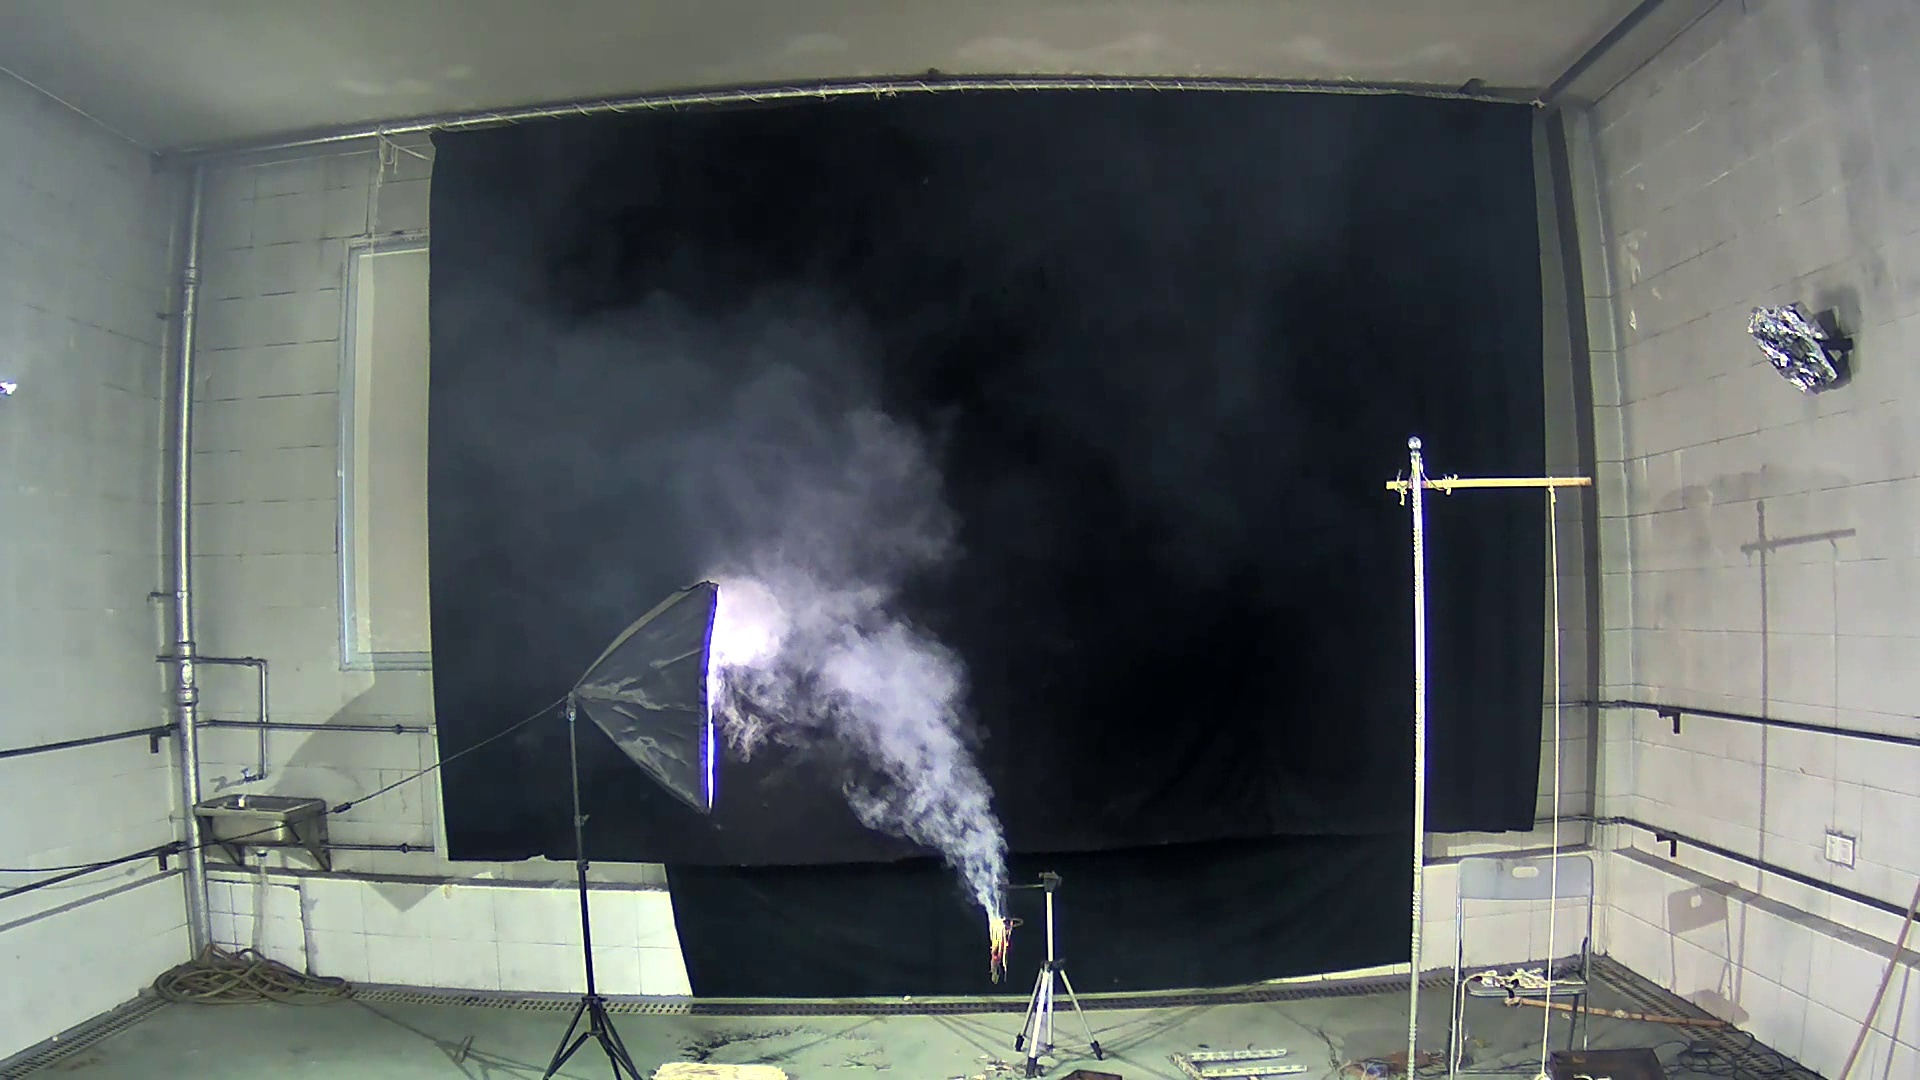smoke: (721, 326, 1033, 920)
